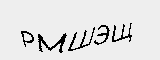М: (37, 32, 67, 55)
Р: (17, 27, 36, 51)
Ш: (66, 24, 95, 51)
Щ: (111, 21, 132, 42)
Э: (93, 21, 109, 47)
